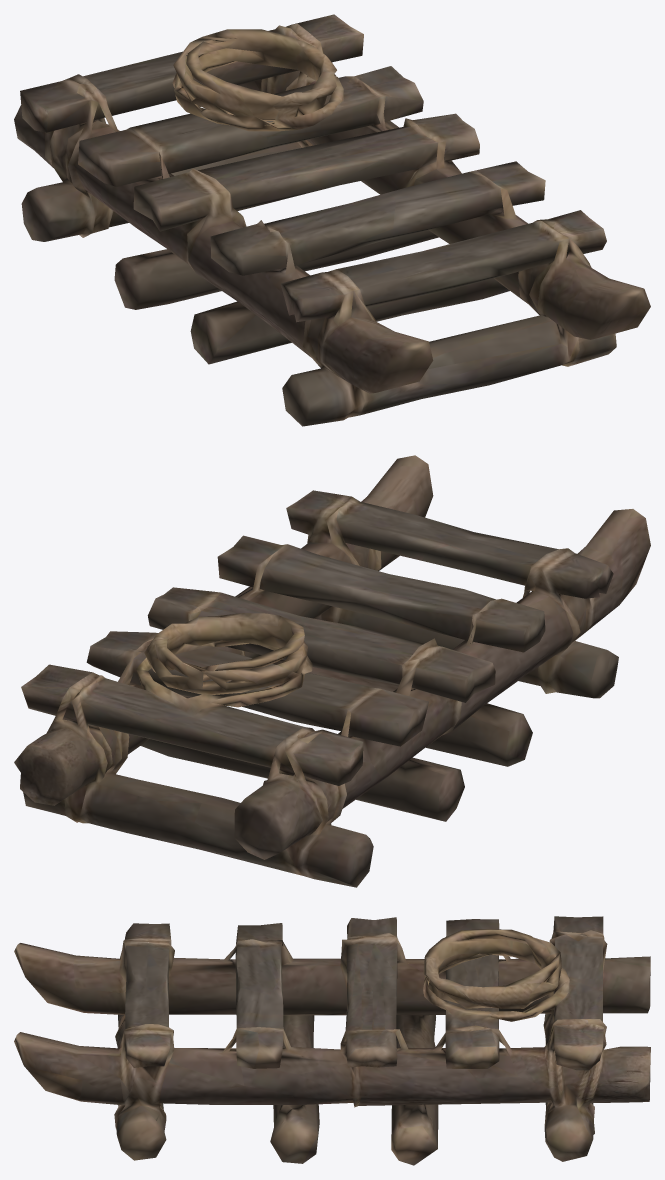
File: stone_sledge.glb
3 renders of one model, top to bottom at view 1: azimuth 30°, elevation 25°; view 2: azimuth 150°, elevation 25°; view 3: azimuth 270°, elevation 25°, orthographic. The views are drawn at different scales.
Visible parts, largest first — view 1: tripo_node_1d170d1d-4edd-413e-bde2-b5621f96414b; view 2: tripo_node_1d170d1d-4edd-413e-bde2-b5621f96414b; view 3: tripo_node_1d170d1d-4edd-413e-bde2-b5621f96414b.
Boxes of the visible parts, left/top/right/bottom form: tripo_node_1d170d1d-4edd-413e-bde2-b5621f96414b: left=14, top=14, right=650, bottom=426; tripo_node_1d170d1d-4edd-413e-bde2-b5621f96414b: left=14, top=455, right=650, bottom=887; tripo_node_1d170d1d-4edd-413e-bde2-b5621f96414b: left=14, top=916, right=650, bottom=1165.
Bounding box in the file's own units: 0.504 × 0.2583 × 0.9784.
1 material, 1 textured.
